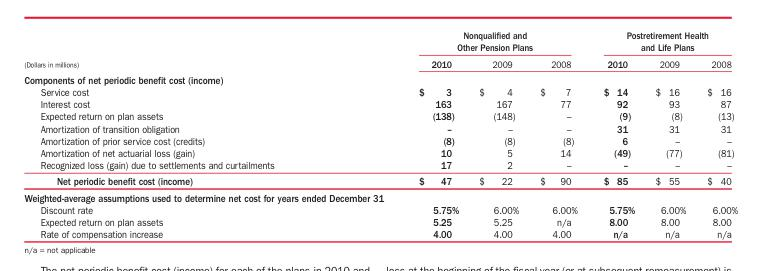table: (23, 29, 737, 239)
table column: (23, 29, 345, 239), (345, 29, 468, 239), (528, 29, 589, 239), (468, 29, 528, 239), (589, 29, 644, 239), (644, 29, 695, 239), (695, 29, 737, 239)
table column header: (23, 29, 737, 71)
table projected row header: (23, 71, 737, 85), (23, 189, 737, 203)
table row: (23, 29, 737, 55), (23, 172, 737, 189), (23, 55, 737, 71), (23, 71, 737, 85), (23, 158, 737, 172), (23, 189, 737, 203), (23, 109, 737, 122), (23, 85, 737, 97), (23, 97, 737, 109), (23, 122, 737, 134), (23, 134, 737, 146), (23, 146, 737, 158), (23, 203, 737, 215), (23, 215, 737, 227), (23, 227, 737, 239)
table spanning cell: (23, 29, 345, 71), (345, 29, 589, 55), (589, 29, 737, 55)
